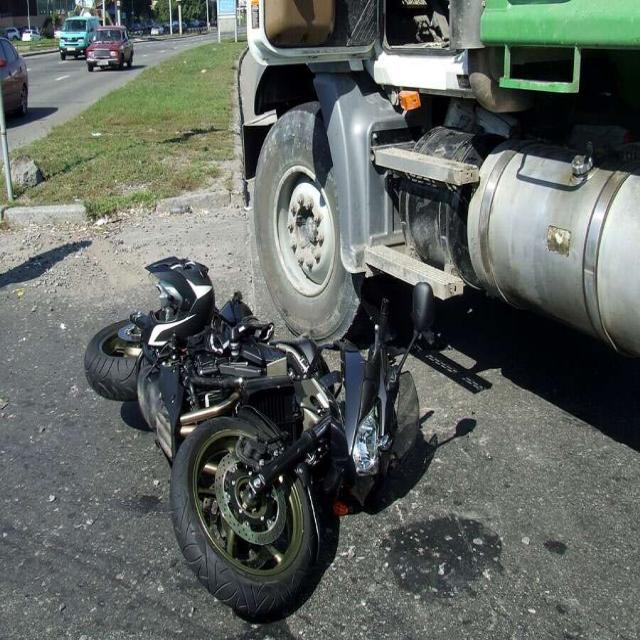accident: (85, 257, 419, 619)
car: (86, 27, 134, 71)
truck: (241, 0, 640, 355)
